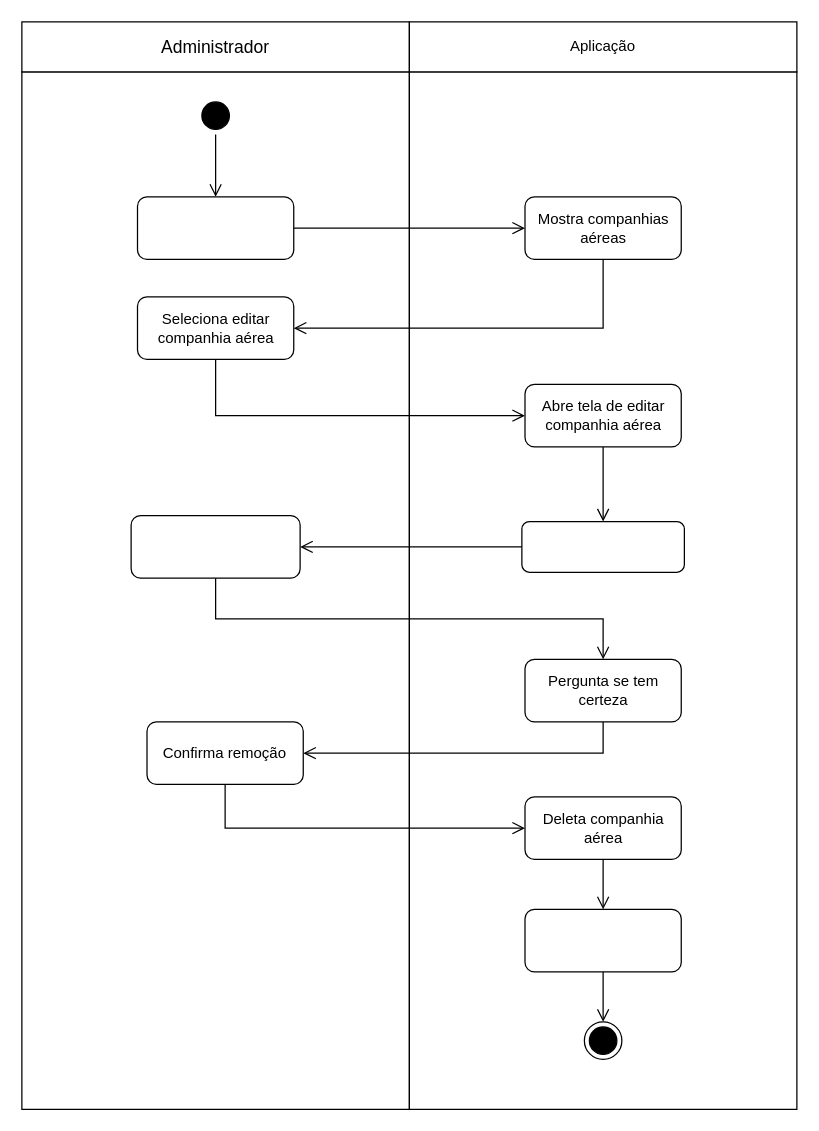
Some shapes in this 819 by 1131 pixel diagram are drawn without their labels. The centre of each missing label's shape, as x and y in pixels:
"Entra na tela de ver companhias aéreas" belongs at point 215,227.
"Informa que a companhia aérea foi deletada com sucesso" belongs at point 602,940.
"Mostra dados atuais" belongs at point 602,546.
"Seleciona deletar companhia aérea" belongs at point 215,546.
